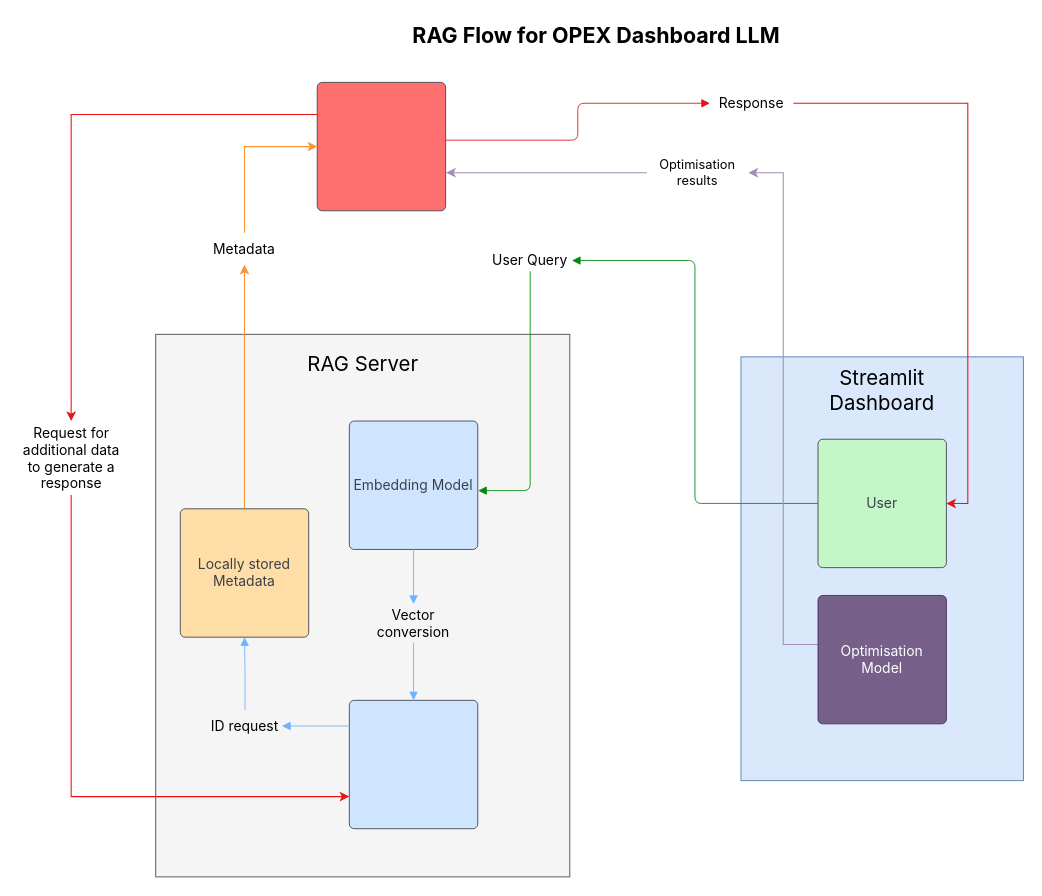
Some shapes in this 1042 by 896 pixel diagram are drawn without their labels. Each missing label, with the box of its shape:
Cloud-hosted LLM (ChatGPT): (316, 81, 446, 211)
FAISS Vector Database: (348, 699, 478, 829)
